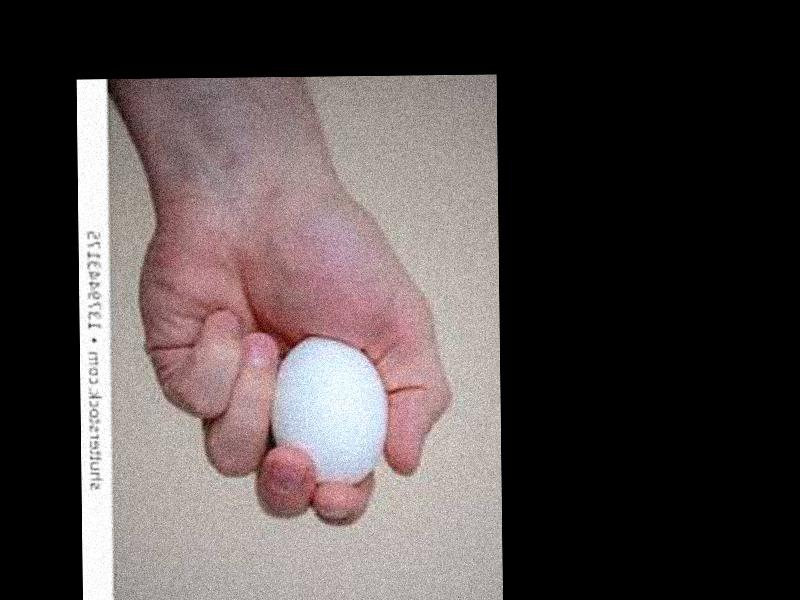Eggs: (271, 333, 388, 484)
